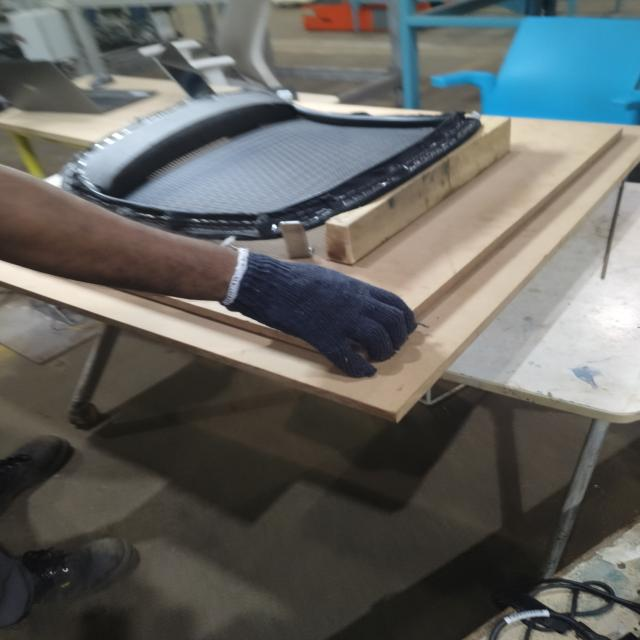Gloves-Detection: (222, 236, 423, 381)
